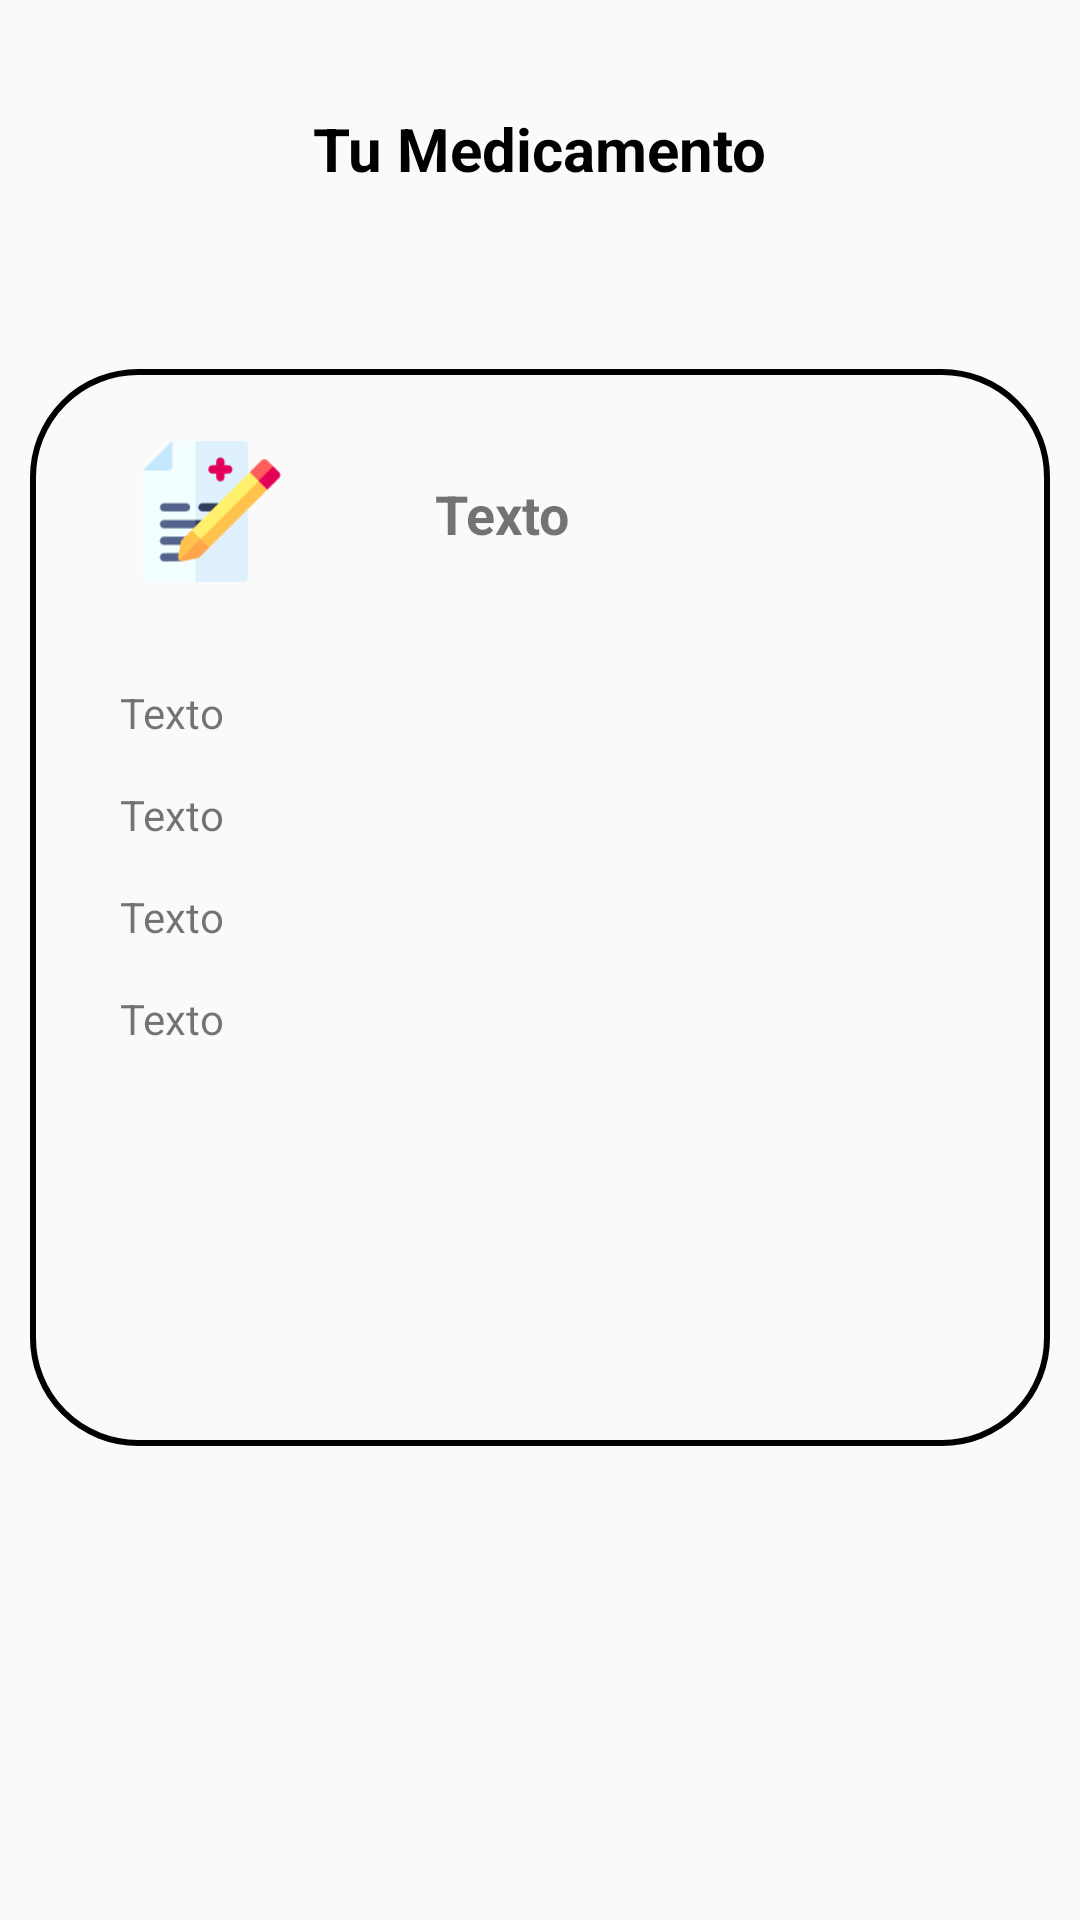

Screen size 1080*1920. Icon name, then its center in pixels as [x,y]:
prescription: [212,511]
